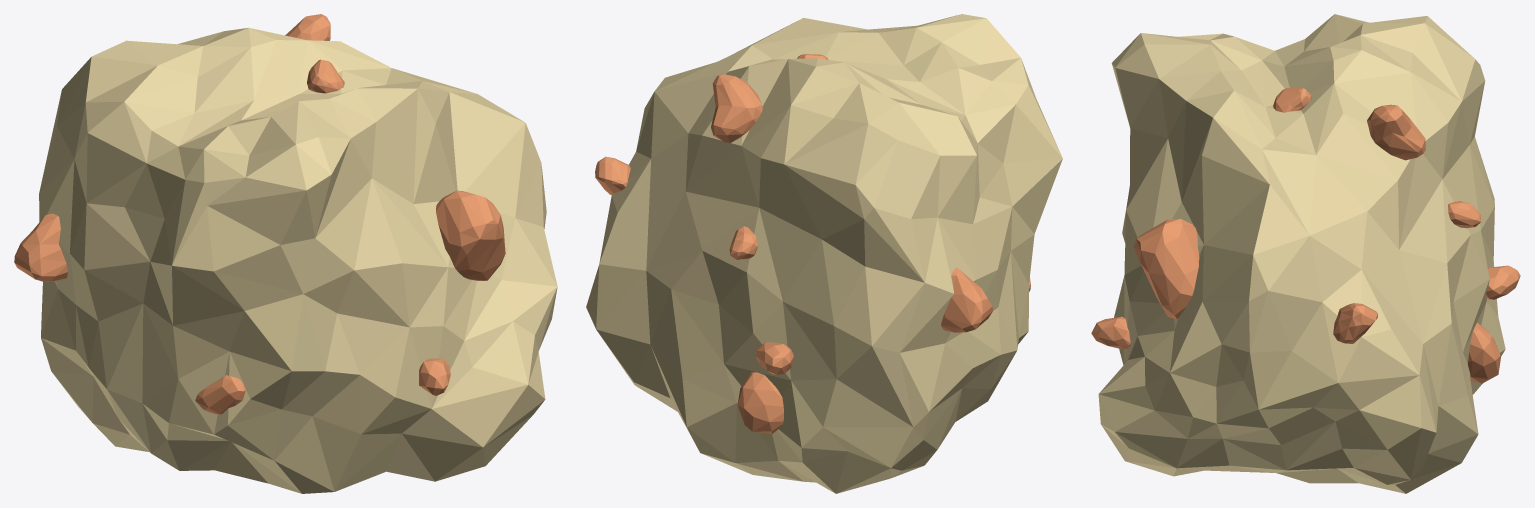
Rendered from StoneOre (6).fbx.
3 renders of one model, left to right at view 1: azimuth 30°, elevation 25°; view 2: azimuth 150°, elevation 25°; view 3: azimuth 270°, elevation 25°, orthographic. The views are drawn at different scales.
Visible parts, largest first — view 1: Asteroid293; view 2: Asteroid293; view 3: Asteroid293.
Part boxes in pixels (x1,y1,x2,y2): Asteroid293: (14, 14, 557, 493); Asteroid293: (586, 14, 1062, 493); Asteroid293: (1091, 14, 1520, 493).
Size of the model in its own units: 406 by 380 by 354.
